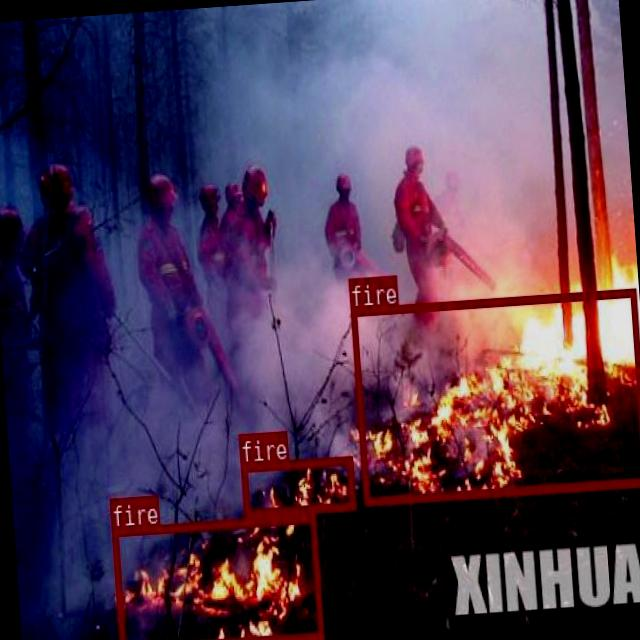fire: (349, 287, 640, 503), (110, 513, 321, 640), (240, 455, 354, 516)
